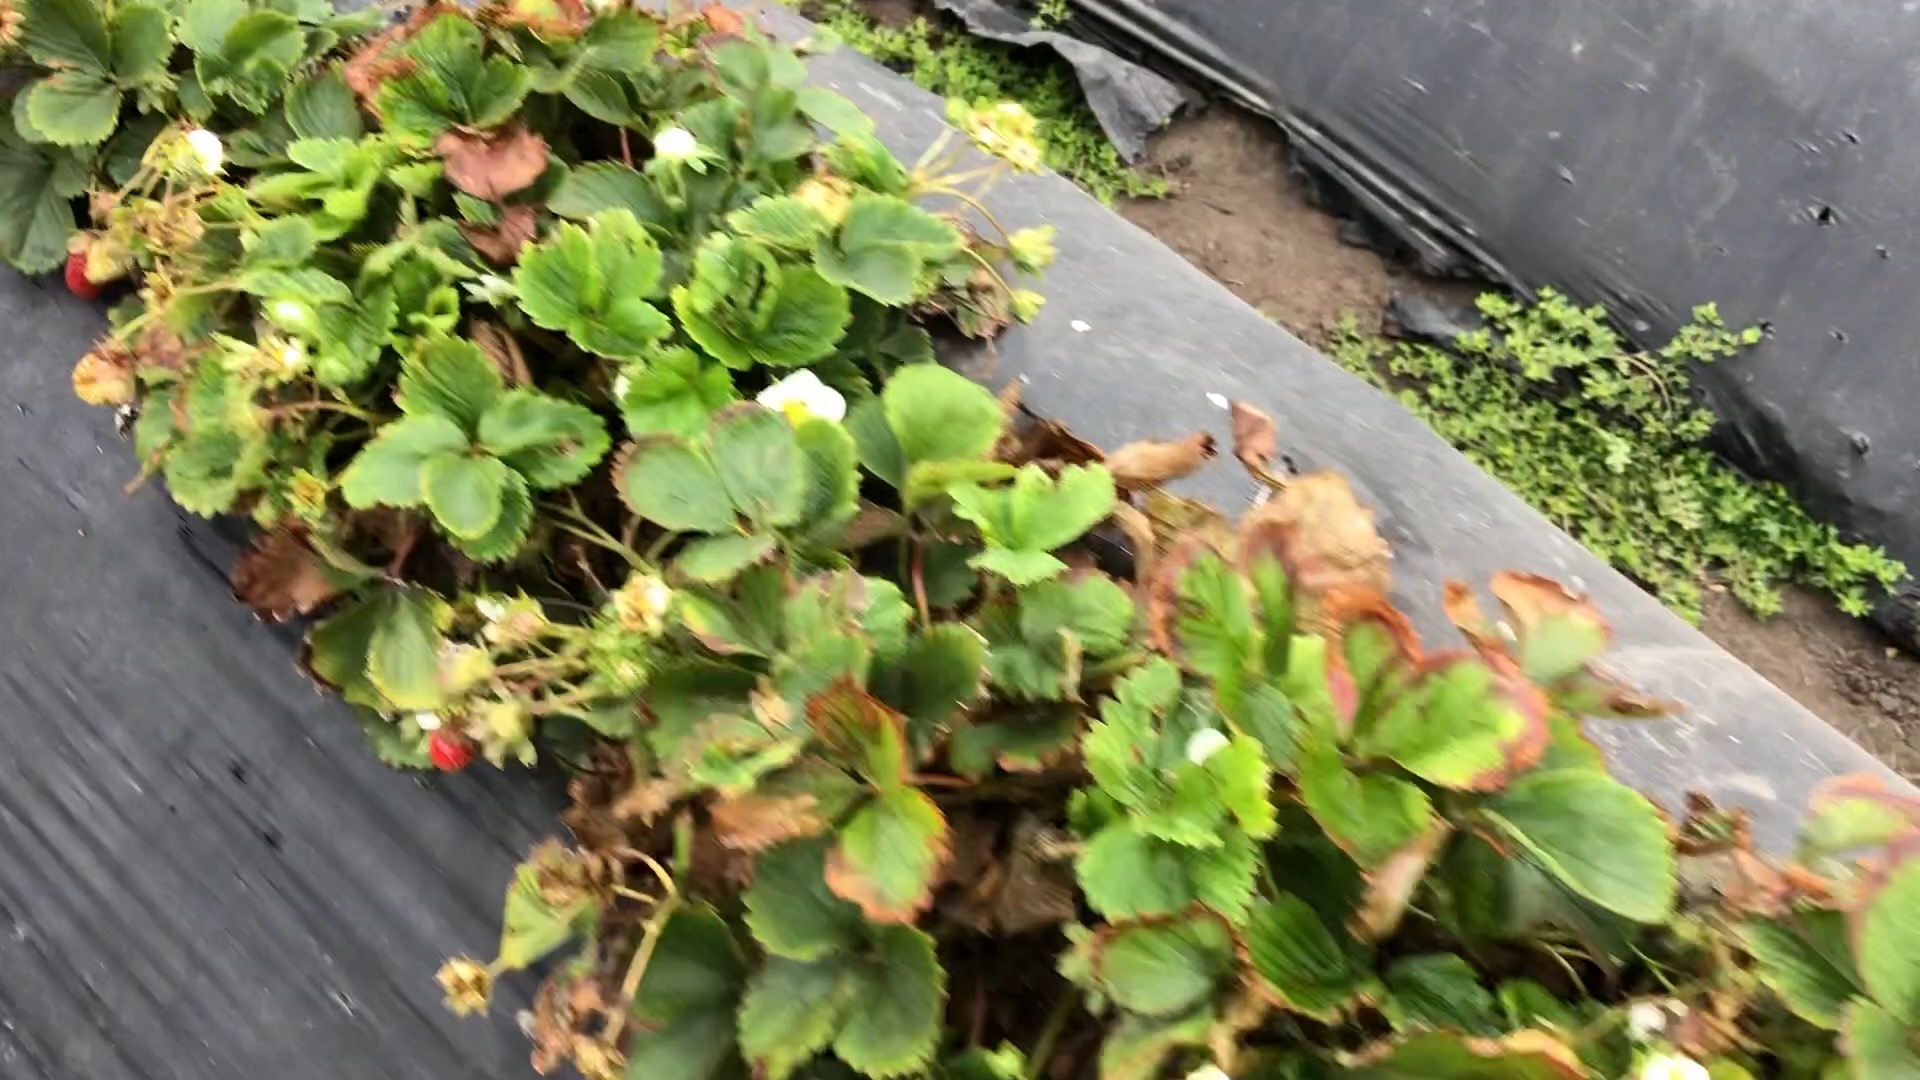ripe_strawberry: (62, 235, 105, 301), (429, 719, 472, 778)
unripe_strawberry: (82, 241, 132, 287)
